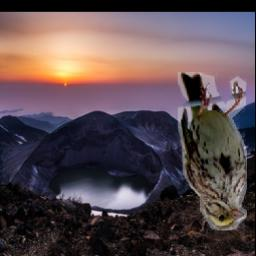Sparrow: (179, 73, 248, 231)
